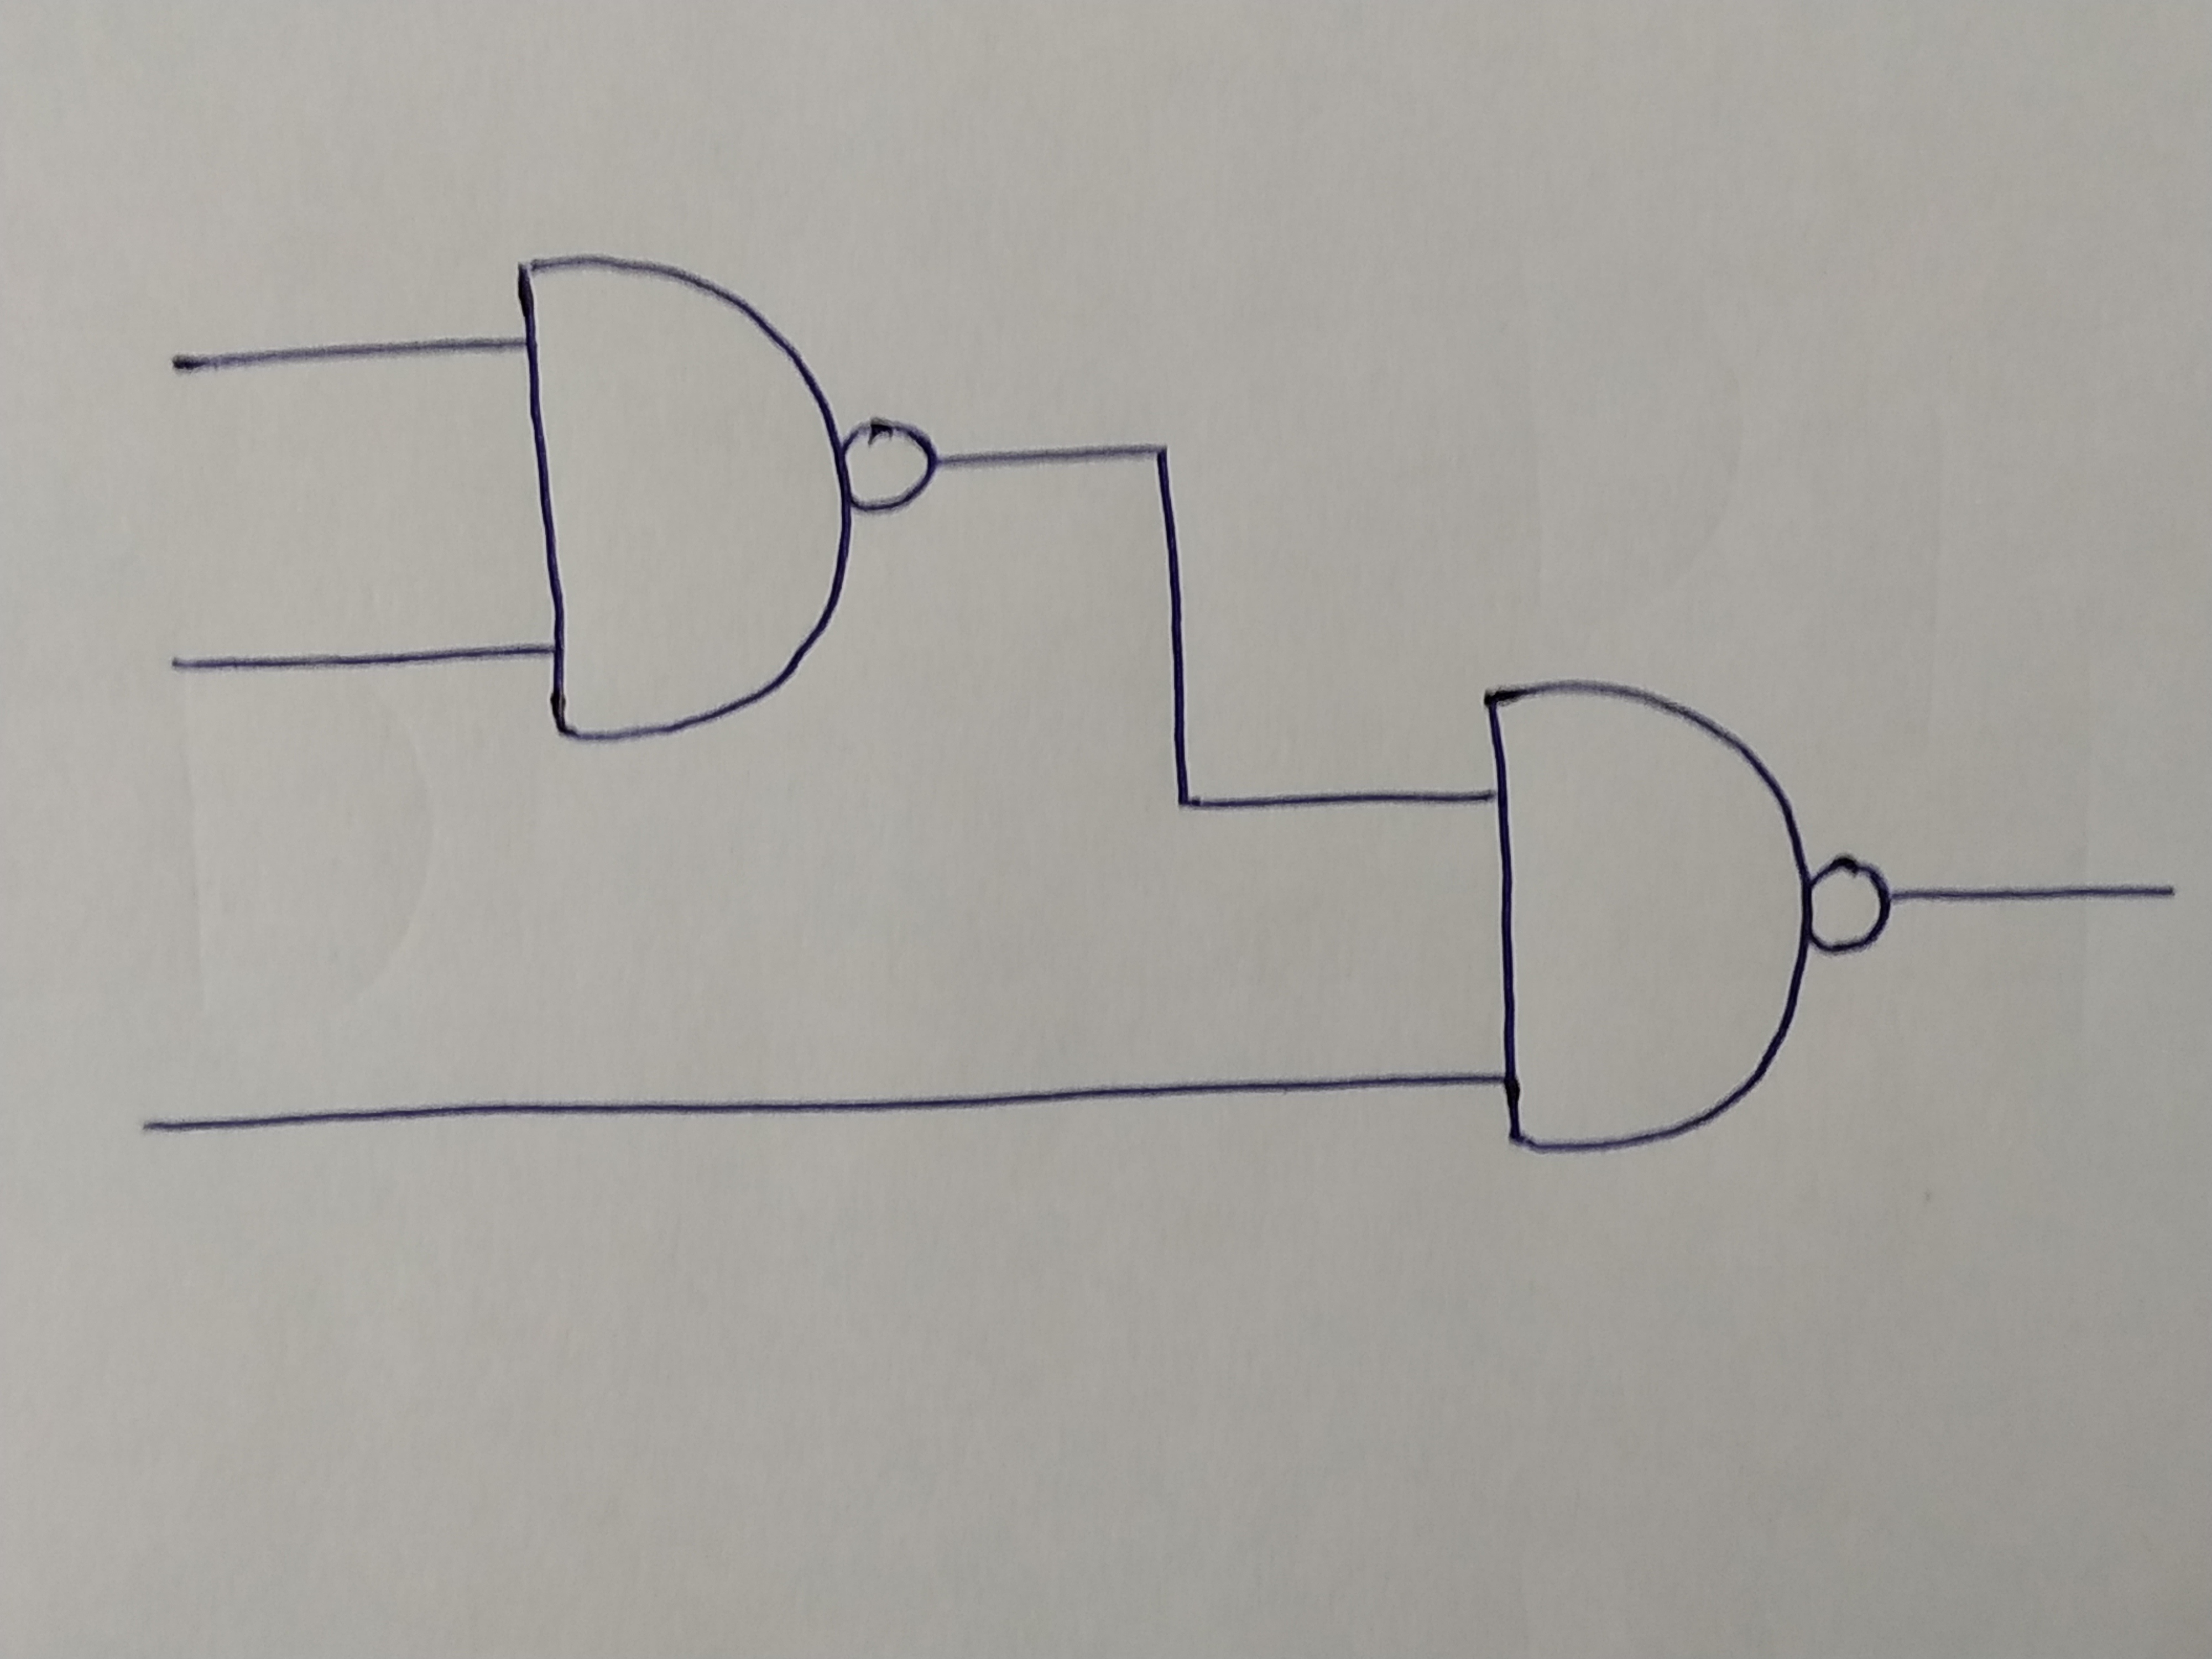and: (512, 256, 846, 744), (1480, 678, 1806, 1157)
not: (841, 423, 930, 512), (1810, 859, 1890, 946)
